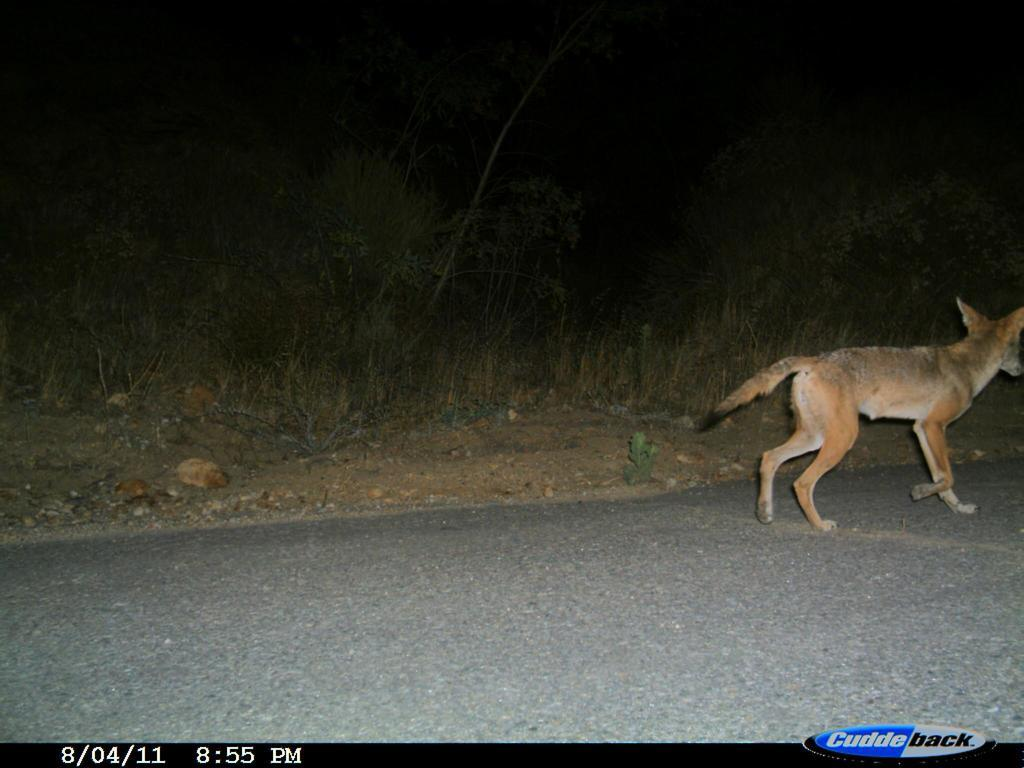coyote: (698, 285, 1023, 541)
